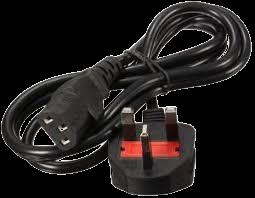cable: (2, 2, 253, 196)
